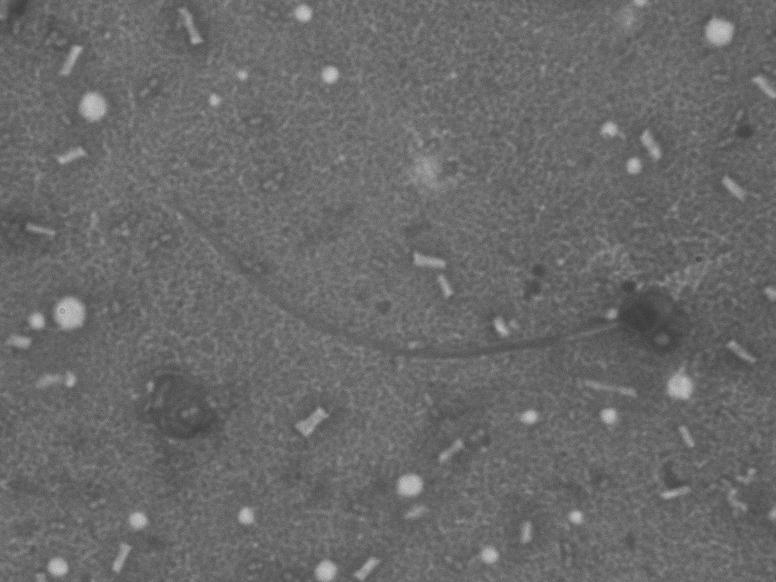Abnormal: (129, 192, 692, 424)
